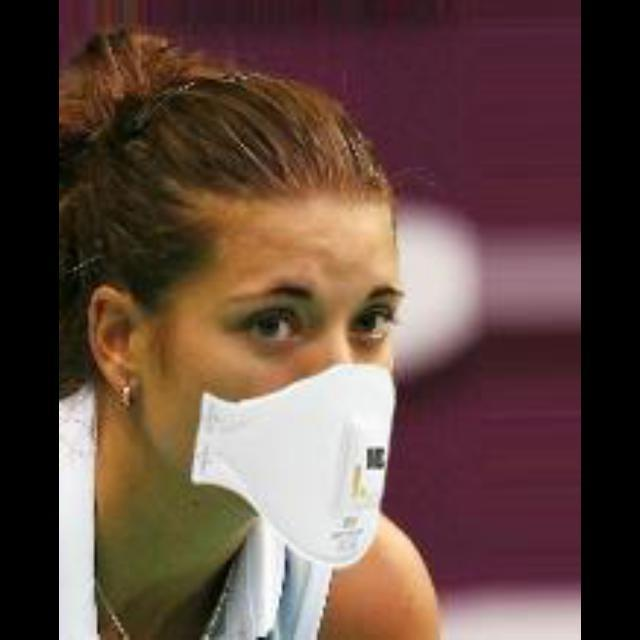suspicion: (70, 44, 450, 556)
